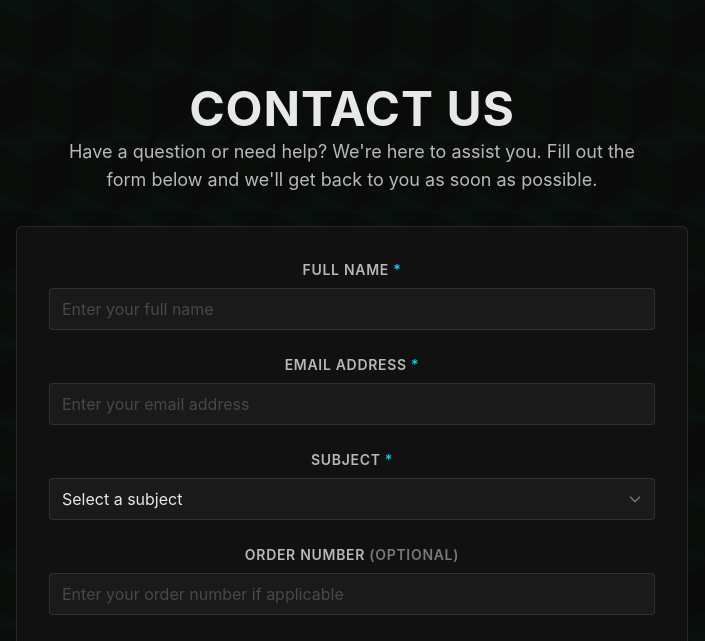
Test: ContactUsPage › Form submission › shows loading state during submission
Type "John Doe" into the field labelled "Full Name *".
click(352, 309); type("John Doe")  # box [49,288,655,330]
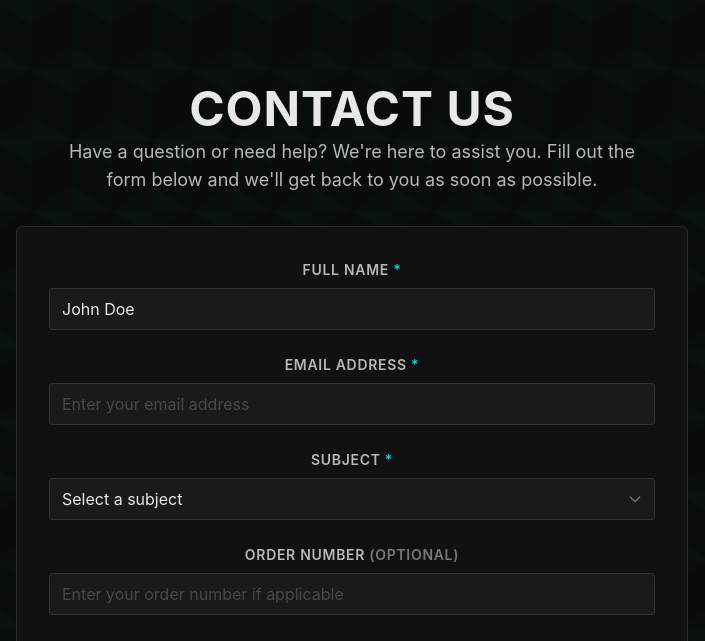
Type "john@example.com" into the field labelled "Email Address *".
click(352, 404); type("john@example.com")  # box [49,383,655,425]
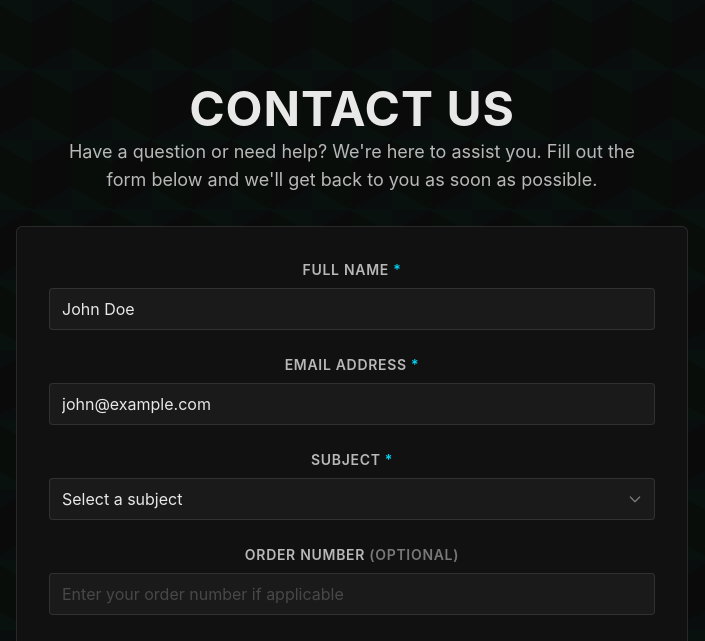
Select "Product Question" in the dropdown labelled "Subject *" at (352, 499), box [49,478,655,520]
(page scrolled)
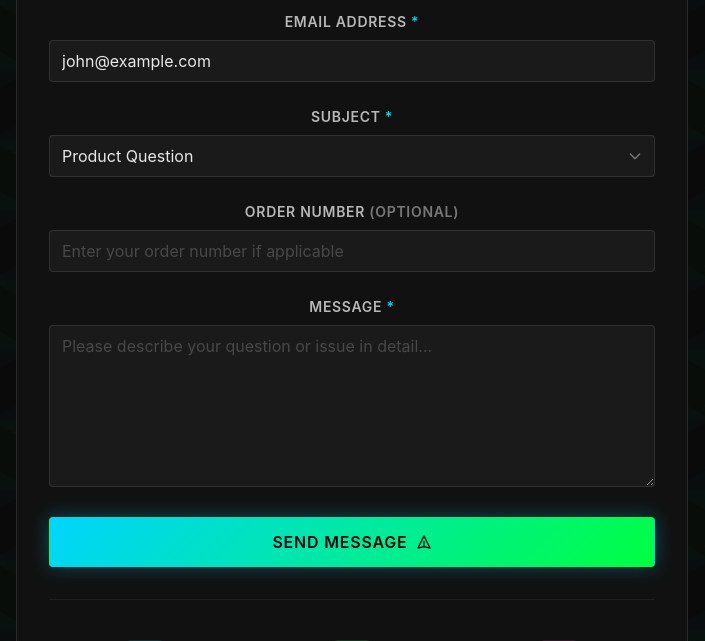
Type "Test message" into the text box labelled "Message *".
click(352, 406); type("Test message")  # box [49,325,655,487]
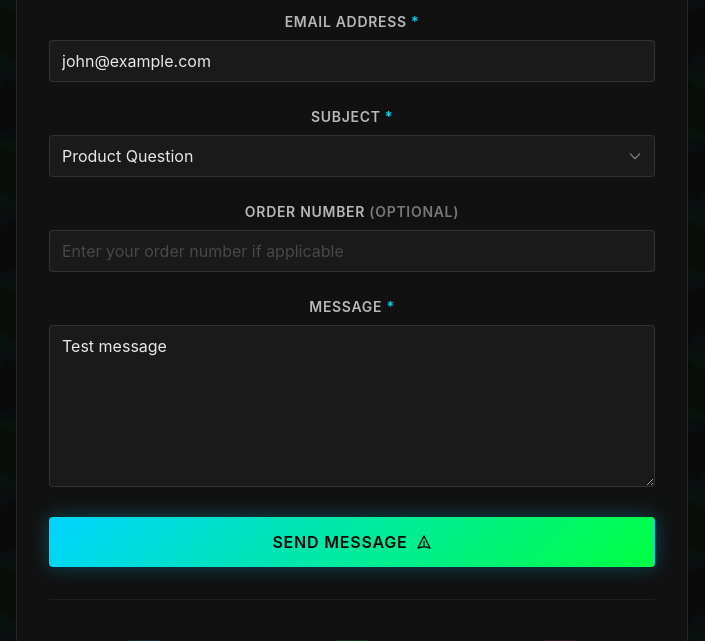
Click the button "Send Message".
click(352, 542)  # box [49,517,655,567]
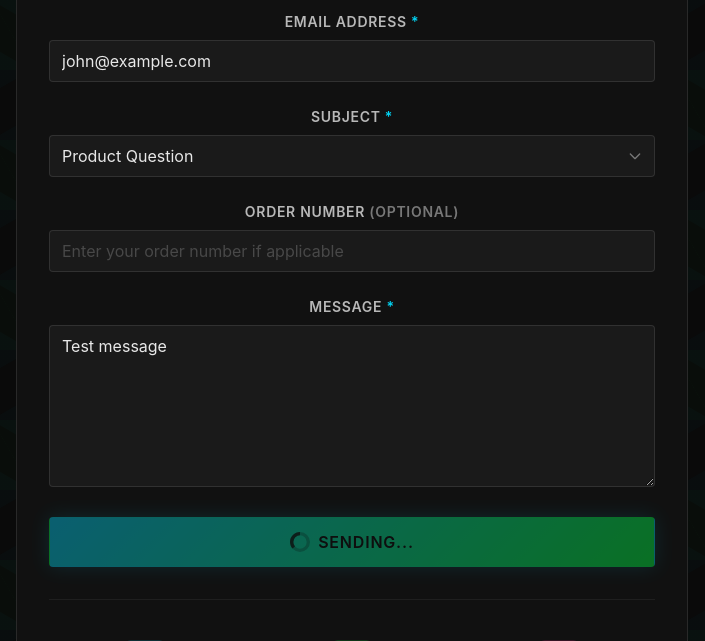
Now the text "Sending..." is shown, box [318,530,414,554]
Now the button named "send message" is disabled, box [49,517,655,567]
